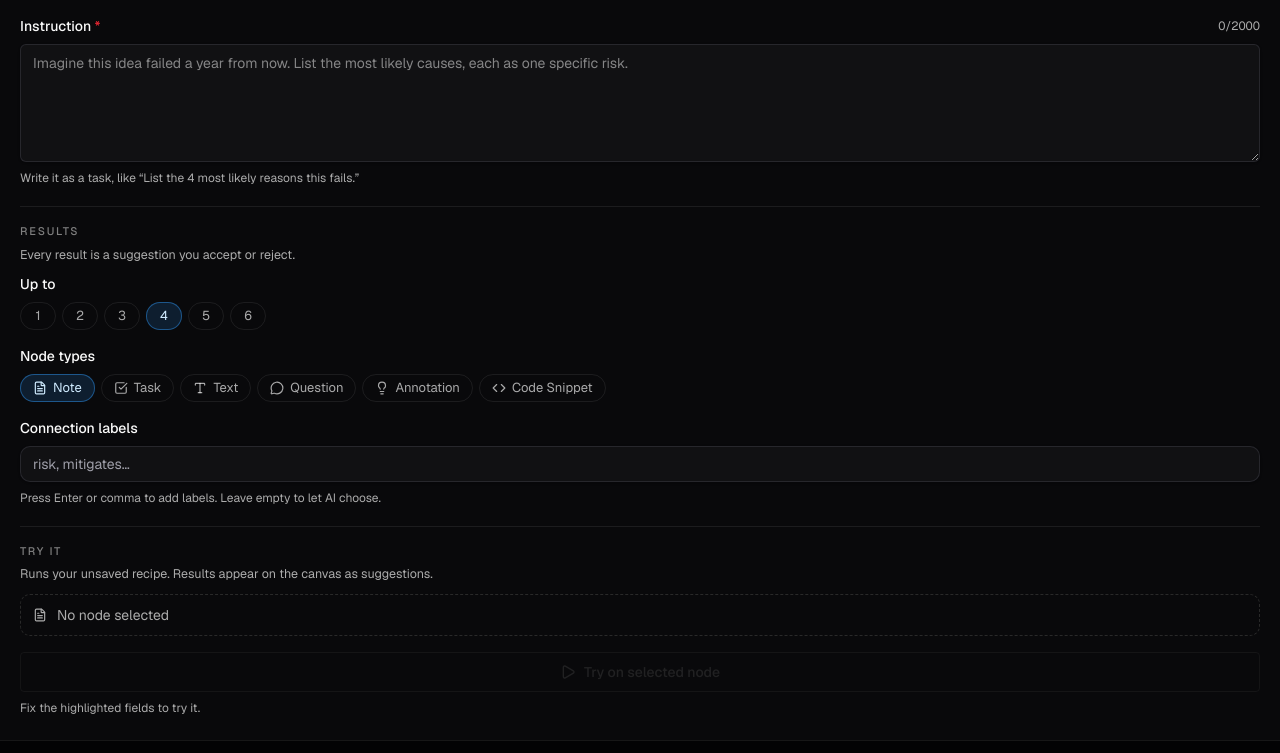
Test case: RecipeEditor › keeps at least the user’s chosen types and flags an empty selection
(page scrolled)
Step 1. Click the button "Note" → {"x": 57, "y": 388}, box [20, 374, 95, 402]
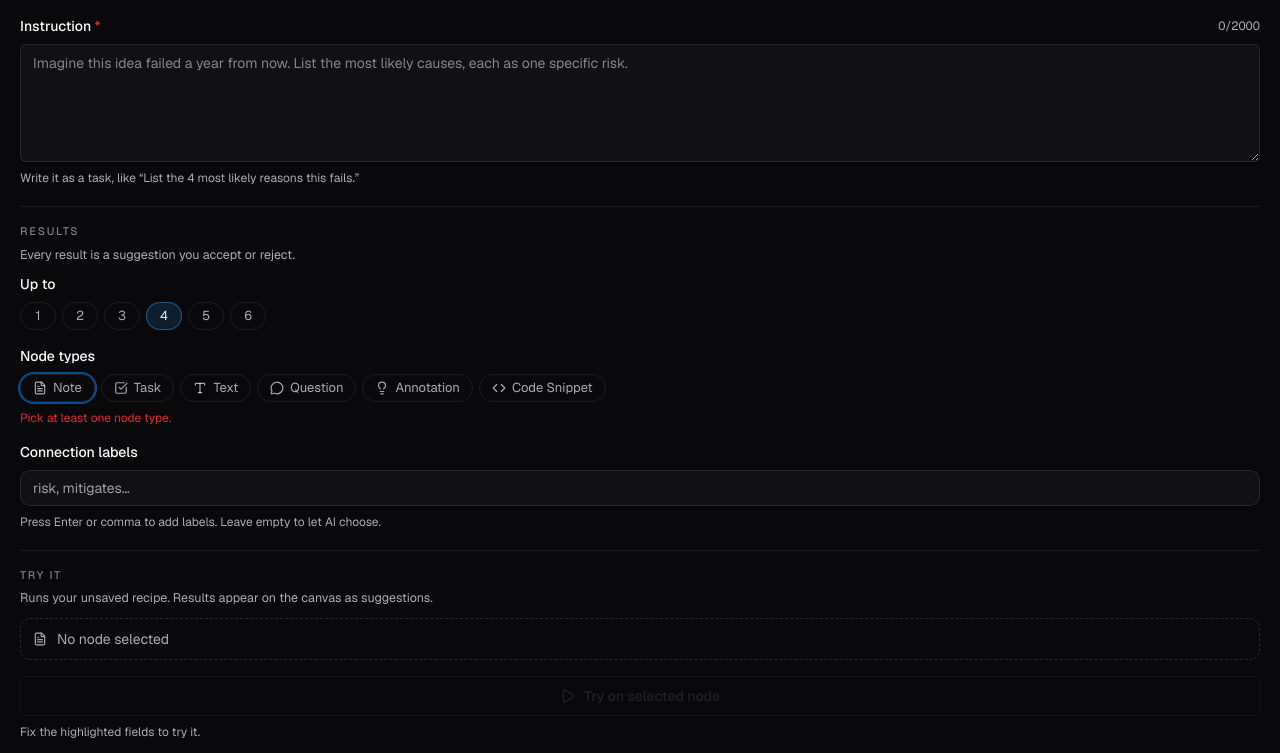
Result: the text "Pick at least one node type." is shown at [20, 410, 171, 426]
